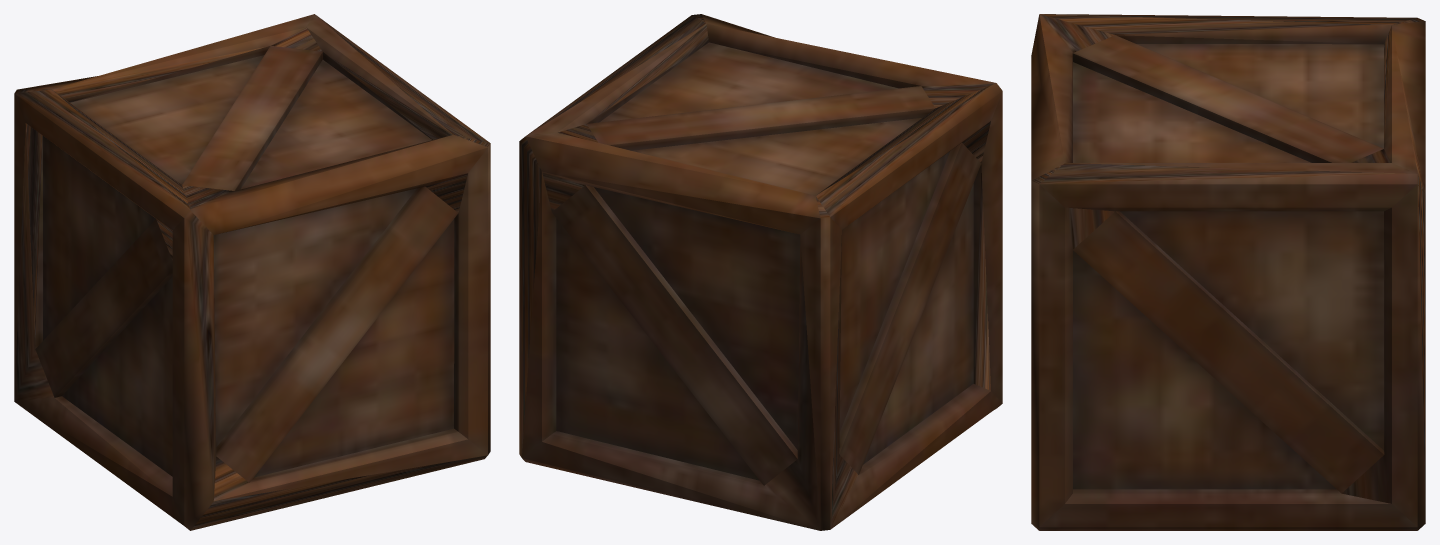
3 renders of one model, left to right at view 1: azimuth 30°, elevation 25°; view 2: azimuth 150°, elevation 25°; view 3: azimuth 270°, elevation 25°, orthographic. The views are drawn at different scales.
Parts seen in each view (by area): view 1: crate_1; view 2: crate_1; view 3: crate_1.
Part boxes in pixels (bbox=[...]): crate_1: bbox=[14, 14, 490, 530]; crate_1: bbox=[519, 14, 1002, 530]; crate_1: bbox=[1031, 14, 1425, 530].
Size of the model in its own units: 0.9 by 0.9 by 0.9.
1 material, 1 textured.
